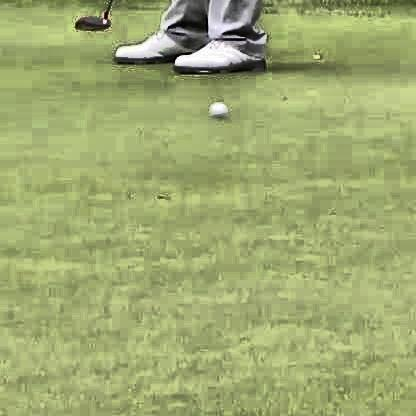golfball: (206, 98, 226, 118)
